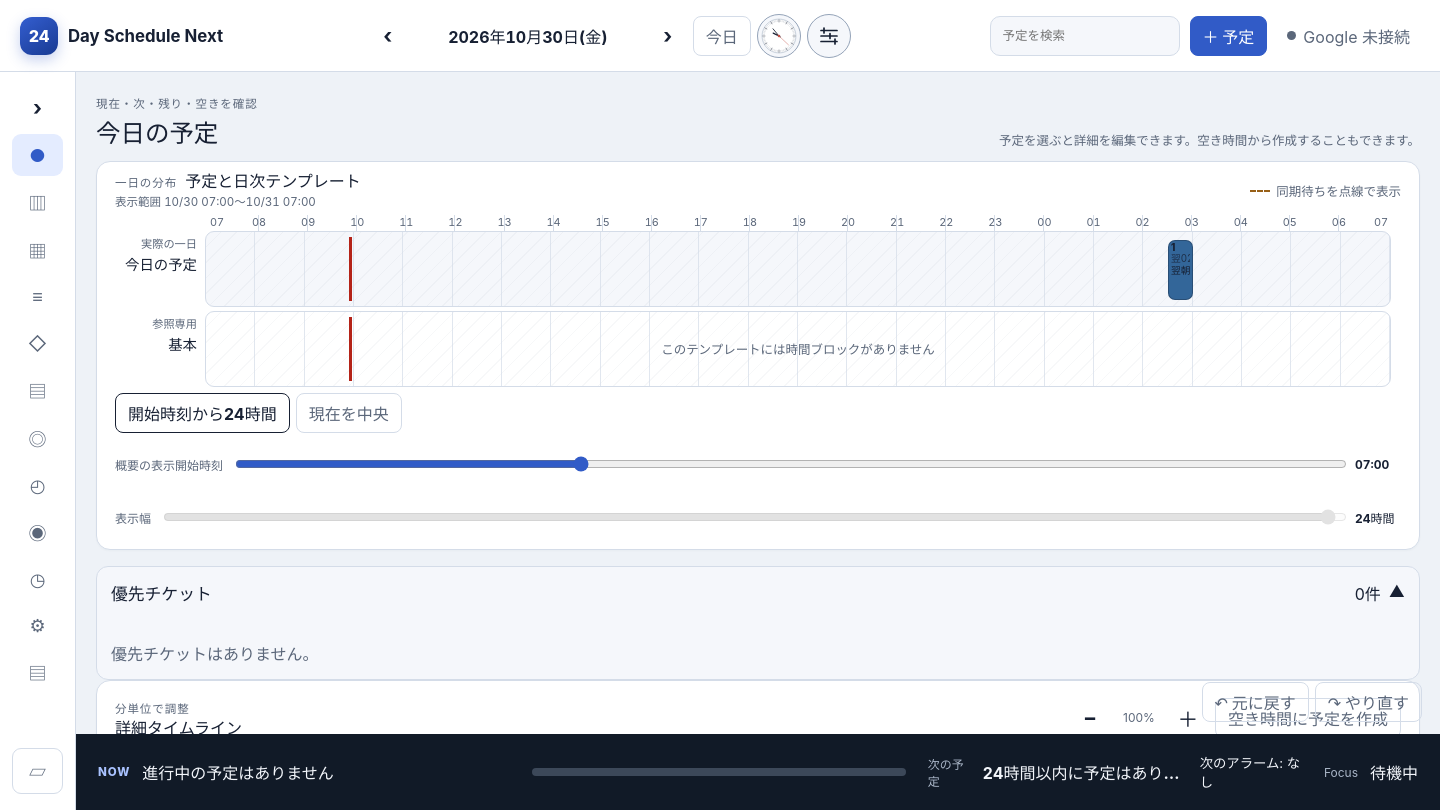
App time-tool navigation › opens a next-morning overview schedule in its editor
This screenshot has width=1440, height=810.
Click the button "1 翌02:30 翌朝の予定を編集" at (1180,270), box [1168,240,1193,300]
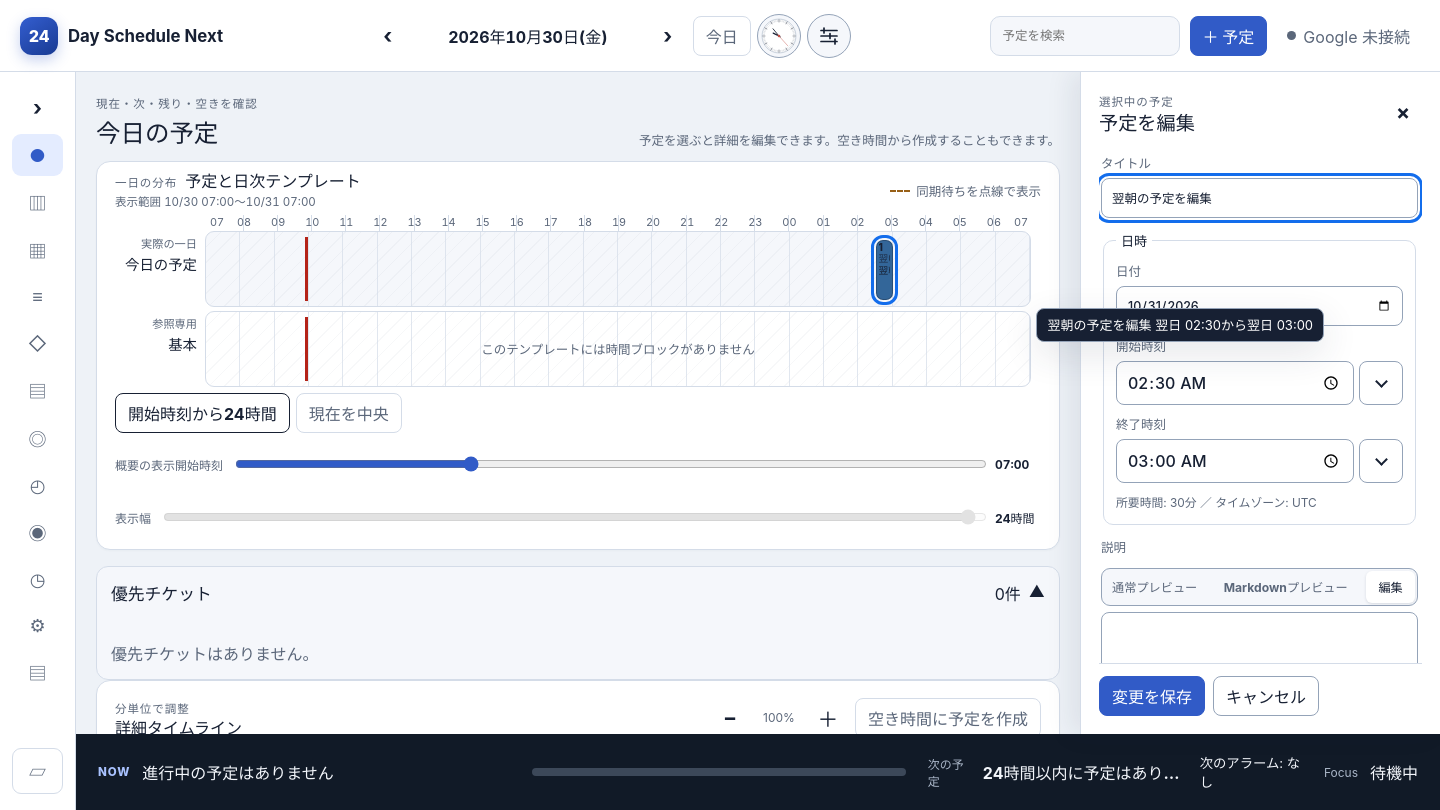
expect the field labelled "タイトル" holds "翌朝の予定を編集": met, box [1101,178,1418,218]
